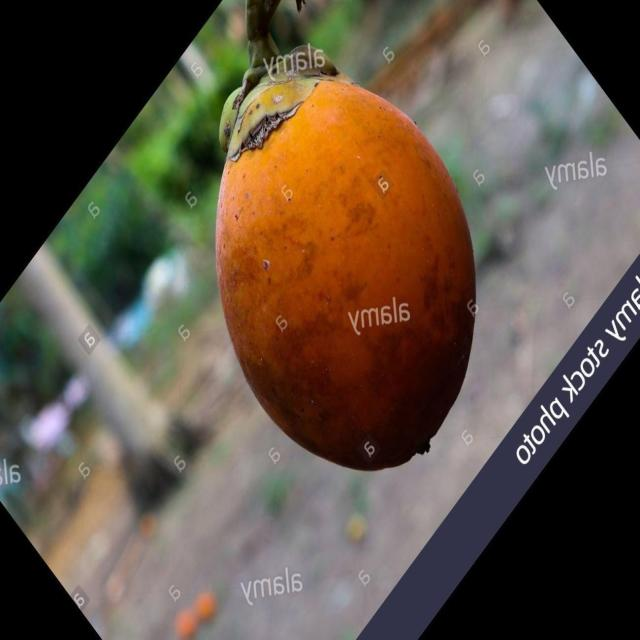good: (215, 47, 477, 474)
